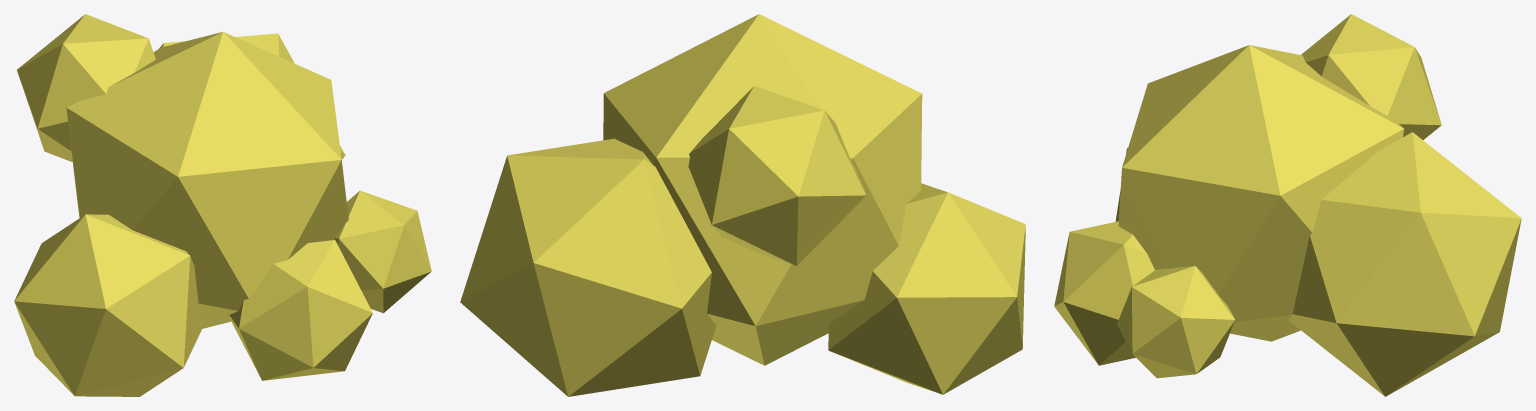
File: bush_Medium.fbx
3 renders of one model, left to right at view 1: azimuth 30°, elevation 25°; view 2: azimuth 150°, elevation 25°; view 3: azimuth 270°, elevation 25°, orthographic. The views are drawn at different scales.
Visible parts, largest first — view 1: Tree_lp_11.001; view 2: Tree_lp_11.001; view 3: Tree_lp_11.001.
Part boxes in pixels (left/top/right/bottom): Tree_lp_11.001: left=14, top=14, right=431, bottom=396; Tree_lp_11.001: left=460, top=14, right=1025, bottom=396; Tree_lp_11.001: left=1054, top=14, right=1521, bottom=396.
Size of the model in its own units: 1479 by 1177 by 1544.
